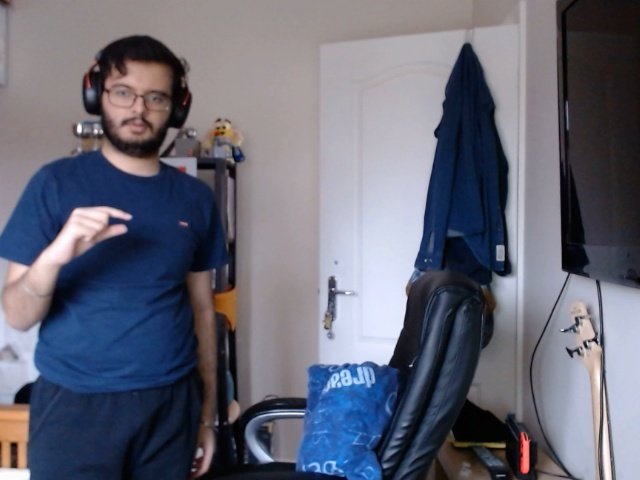Small: (43, 196, 140, 275)
